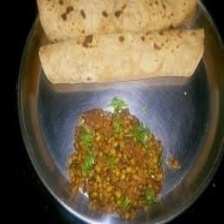sabzi: (64, 97, 183, 221)
